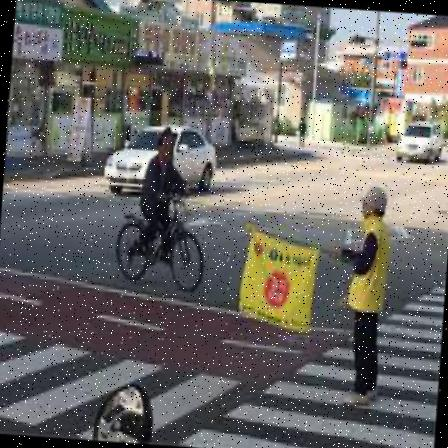silver: (320, 186, 392, 408)
